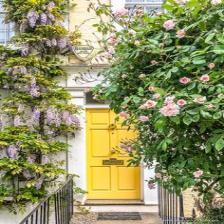yellow: (87, 109, 140, 200)
